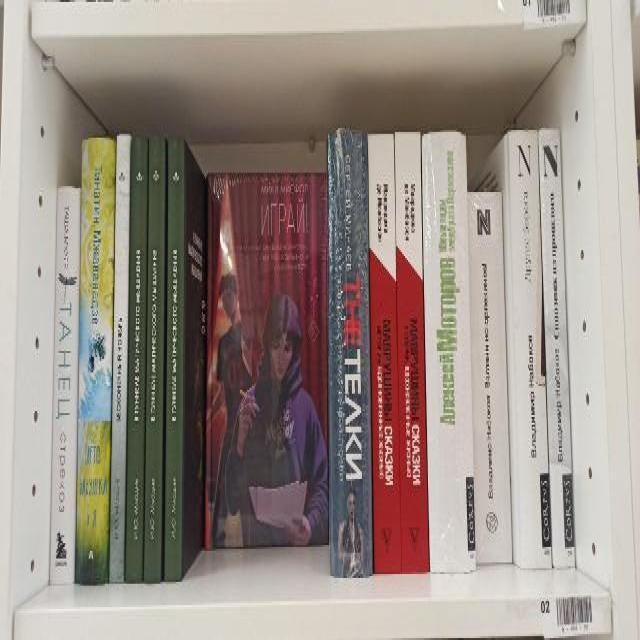book: (423, 132, 476, 572), (327, 129, 373, 577), (510, 132, 554, 568), (76, 139, 114, 583), (469, 193, 513, 562), (539, 129, 576, 567), (368, 132, 402, 573), (395, 131, 429, 572), (51, 186, 79, 584), (143, 135, 166, 583), (109, 135, 131, 582), (126, 138, 147, 583), (165, 138, 185, 580)
